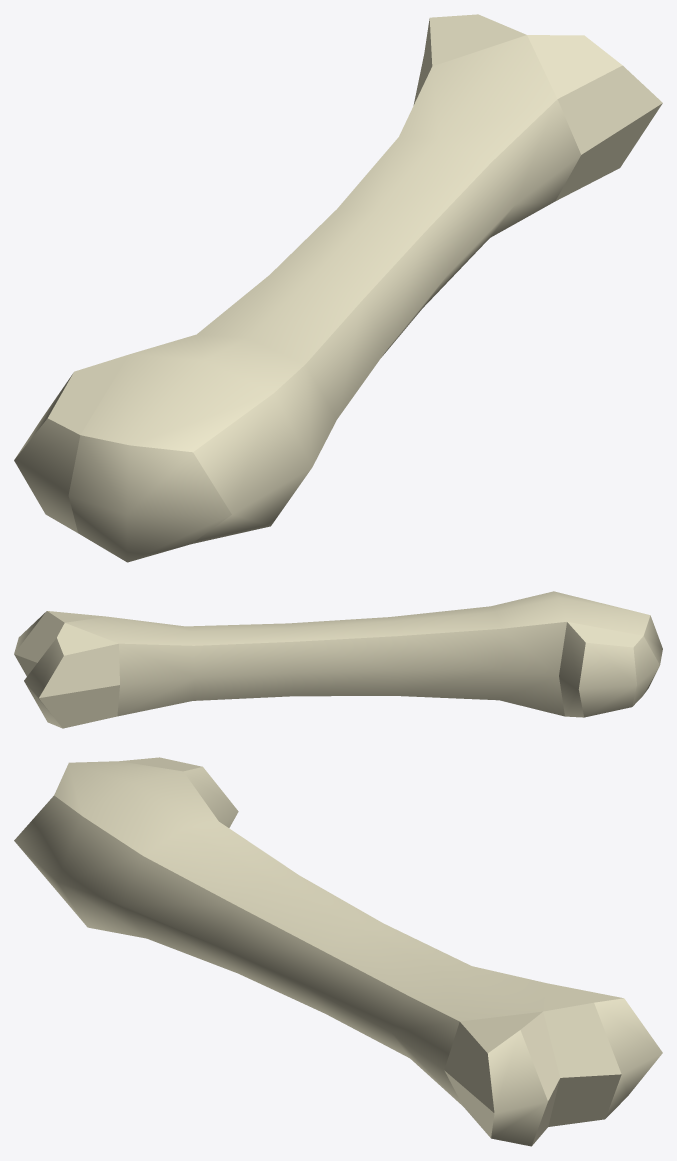
Rendered from Brazo_Iz.fbx.
3 renders of one model, top to bottom at view 1: azimuth 30°, elevation 25°; view 2: azimuth 150°, elevation 25°; view 3: azimuth 270°, elevation 25°, orthographic. The views are drawn at different scales.
Visible parts, largest first — view 1: Brazo_Iz; view 2: Brazo_Iz; view 3: Brazo_Iz.
Boxes of the visible parts, x1,y1,x2,y2 form: Brazo_Iz: (14,14,662,562); Brazo_Iz: (14,591,662,728); Brazo_Iz: (14,757,662,1146).
Size of the model in its own units: 40.11 by 8.06 by 32.74.
